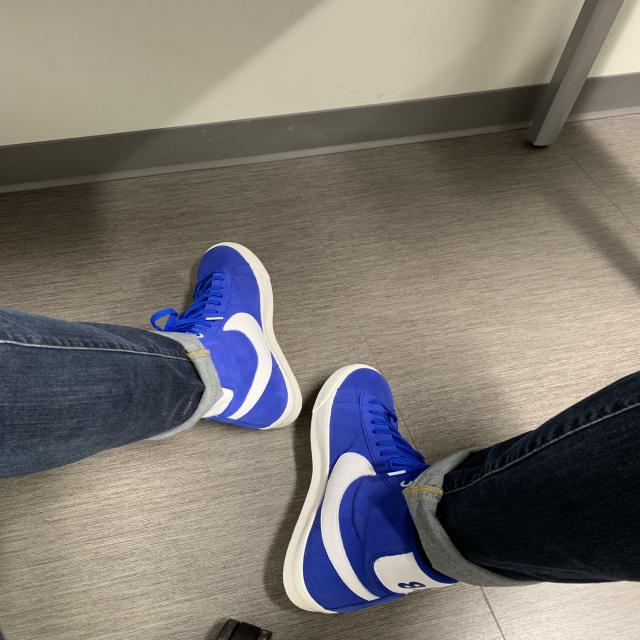shoe: (268, 346, 489, 627), (134, 233, 312, 450)
